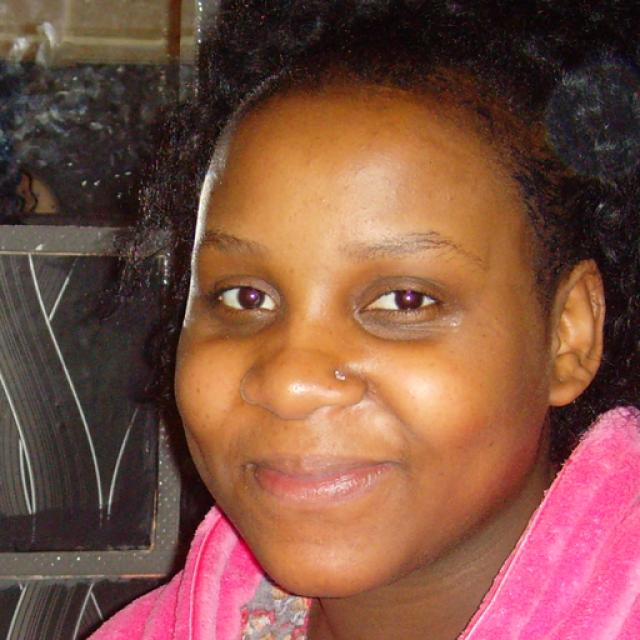Dark Circle: (351, 305, 454, 342), (199, 305, 280, 338)
